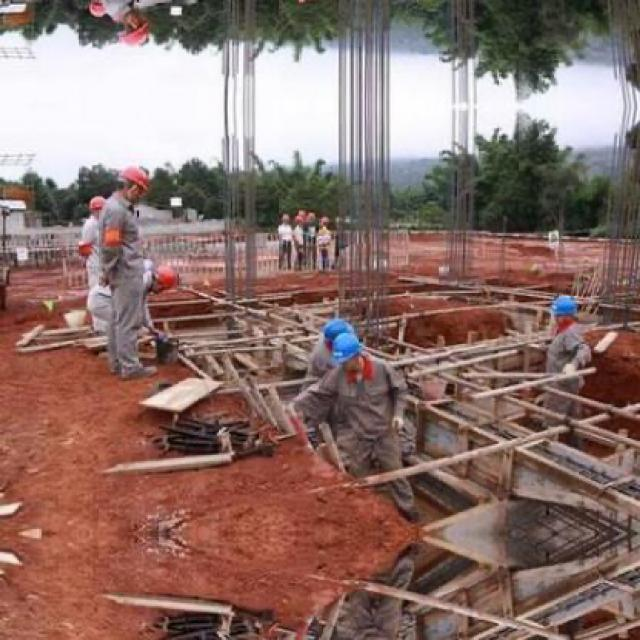2: (292, 348, 417, 516), (292, 550, 418, 638), (84, 261, 178, 359), (108, 168, 150, 379), (534, 294, 589, 446), (297, 321, 349, 404), (78, 197, 108, 307), (107, 0, 151, 46), (274, 211, 291, 273), (304, 210, 318, 273), (292, 213, 306, 271), (317, 216, 331, 271)
helmet: (116, 165, 152, 202), (116, 11, 152, 48), (332, 335, 363, 367), (551, 291, 577, 327), (323, 319, 354, 349), (152, 264, 182, 288), (89, 0, 109, 22), (91, 193, 109, 217), (320, 214, 332, 227), (306, 210, 317, 222), (282, 212, 290, 224), (296, 214, 304, 226), (306, 0, 319, 5)
